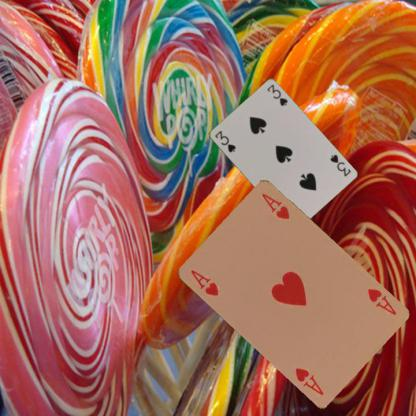3s: (212, 128, 237, 154), (327, 152, 352, 178)
Ah: (187, 267, 221, 299), (364, 286, 398, 316)
